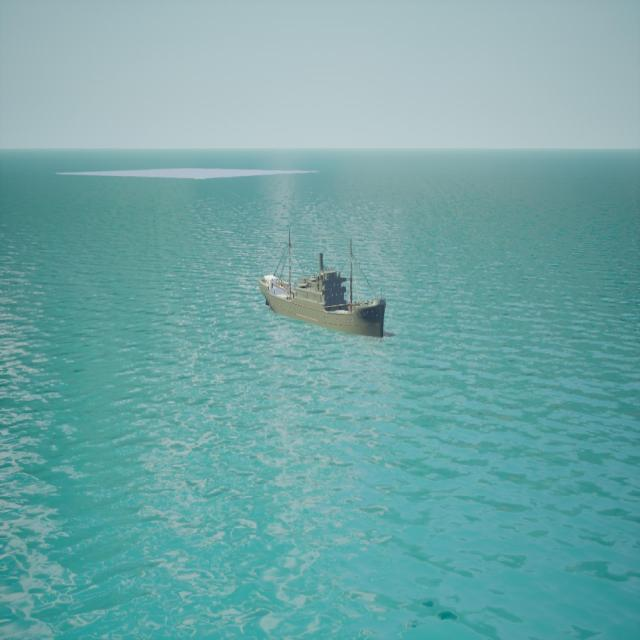fishing ship: (260, 237, 389, 342)
